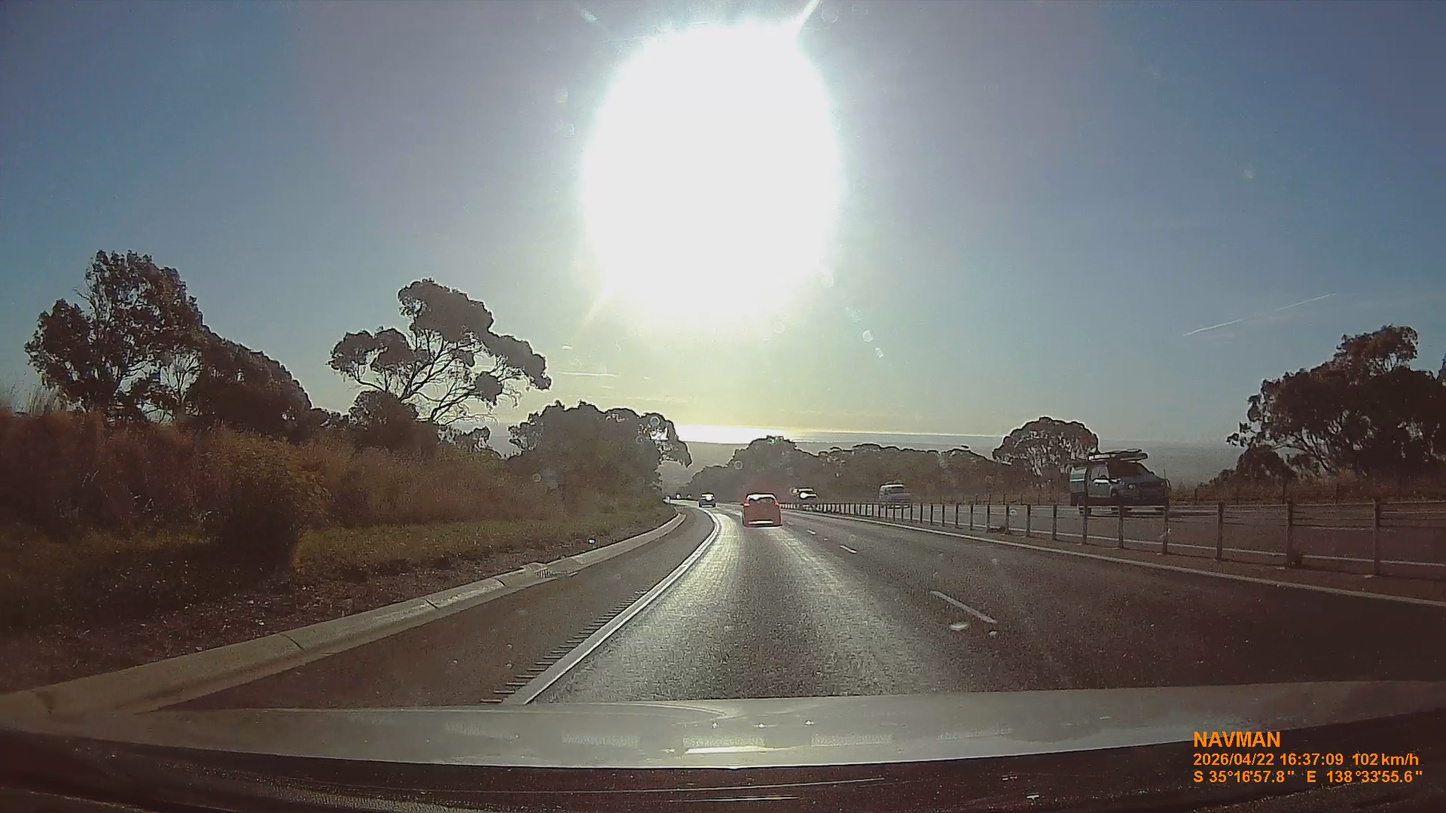road barriers: (786, 499, 1445, 579)
